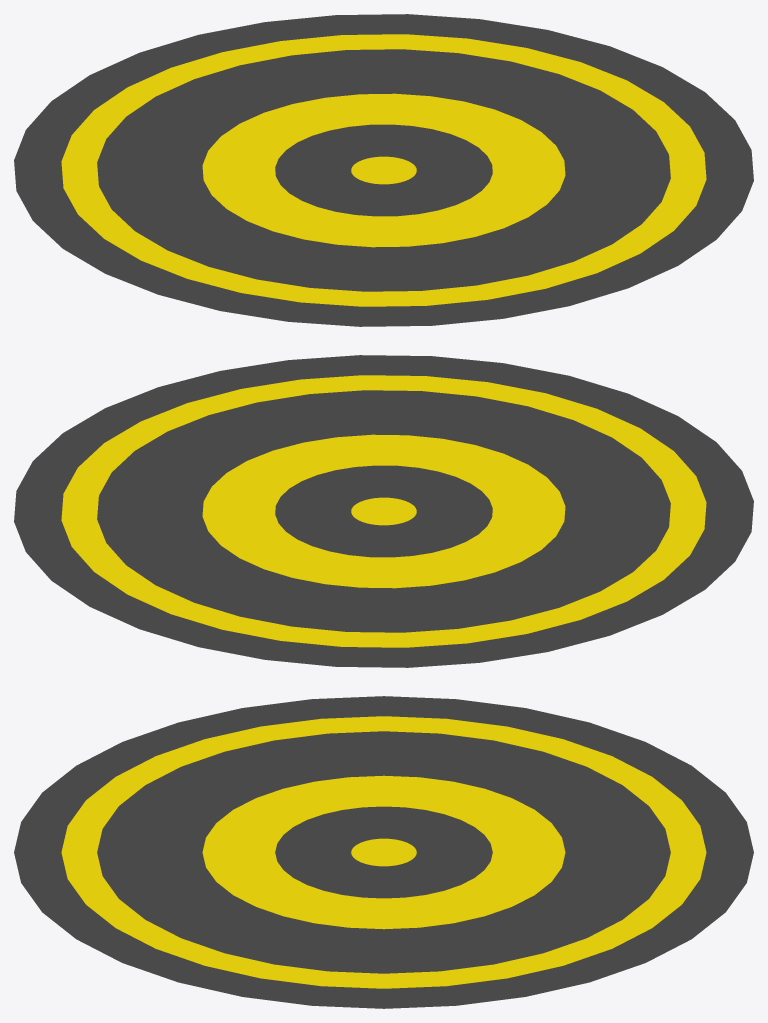
File: mesh_Factory_Hockey_PuckResRound.fbx
3 views of the same model, one above another, from view 1: azimuth 30°, elevation 25°; view 2: azimuth 150°, elevation 25°; view 3: azimuth 270°, elevation 25° (orthographic).
Parts seen in each view (by area): view 1: mesh_Factory_Hockey_PuckResRound; view 2: mesh_Factory_Hockey_PuckResRound; view 3: mesh_Factory_Hockey_PuckResRound.
Boxes of the visible parts, <box> form: mesh_Factory_Hockey_PuckResRound: <box>14,14,753,326</box>; mesh_Factory_Hockey_PuckResRound: <box>14,355,753,667</box>; mesh_Factory_Hockey_PuckResRound: <box>14,696,753,1008</box>.
Bounding box in the file's own units: 2.42 × 0 × 2.42.
